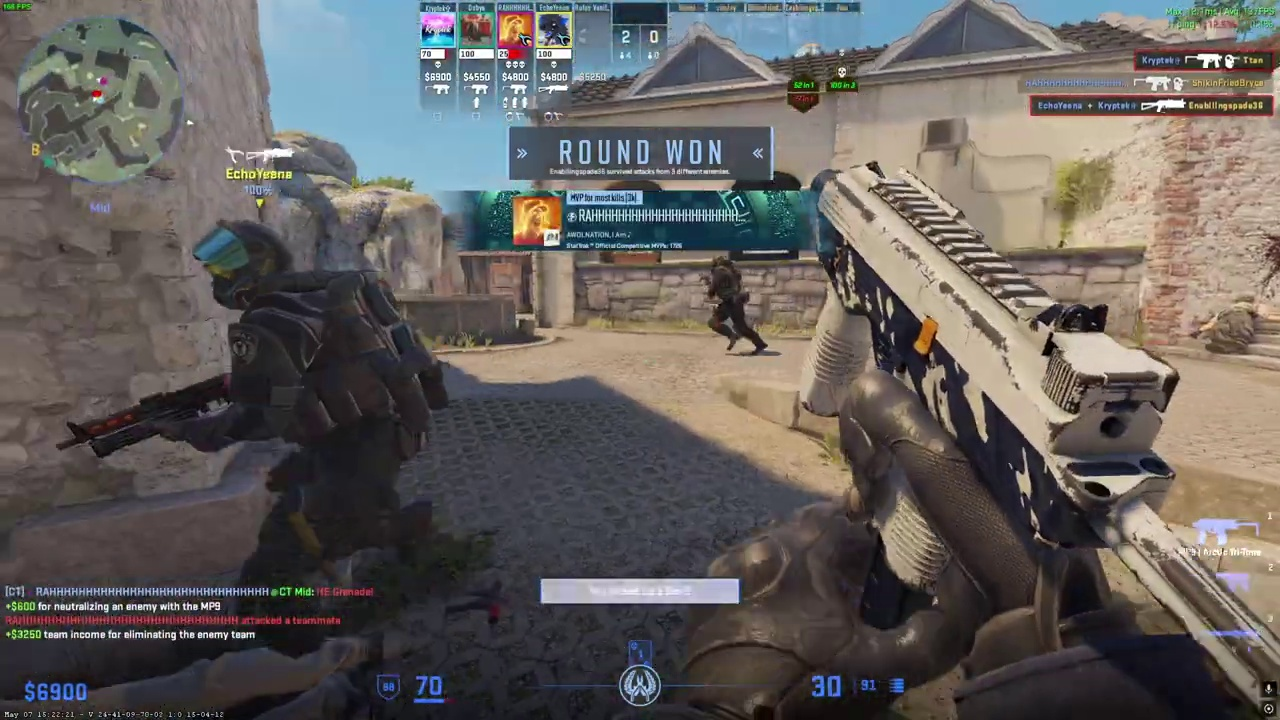CT: (169, 221, 428, 631), (706, 256, 768, 355)
